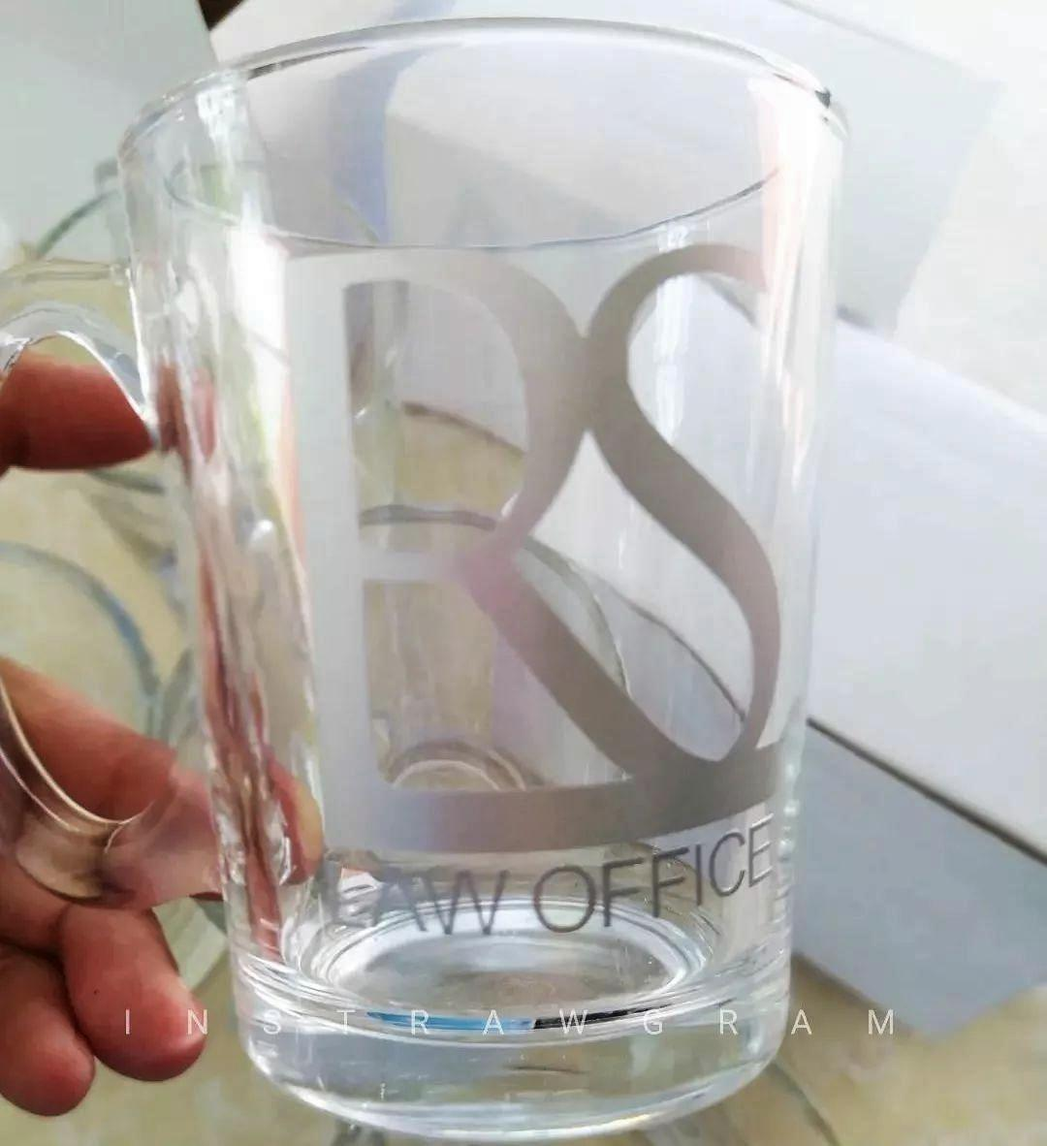glass-mug: (0, 0, 878, 1146)
